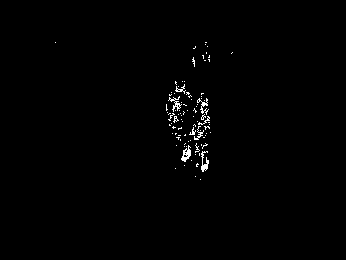person: (167, 78, 194, 164), (192, 91, 212, 172)
